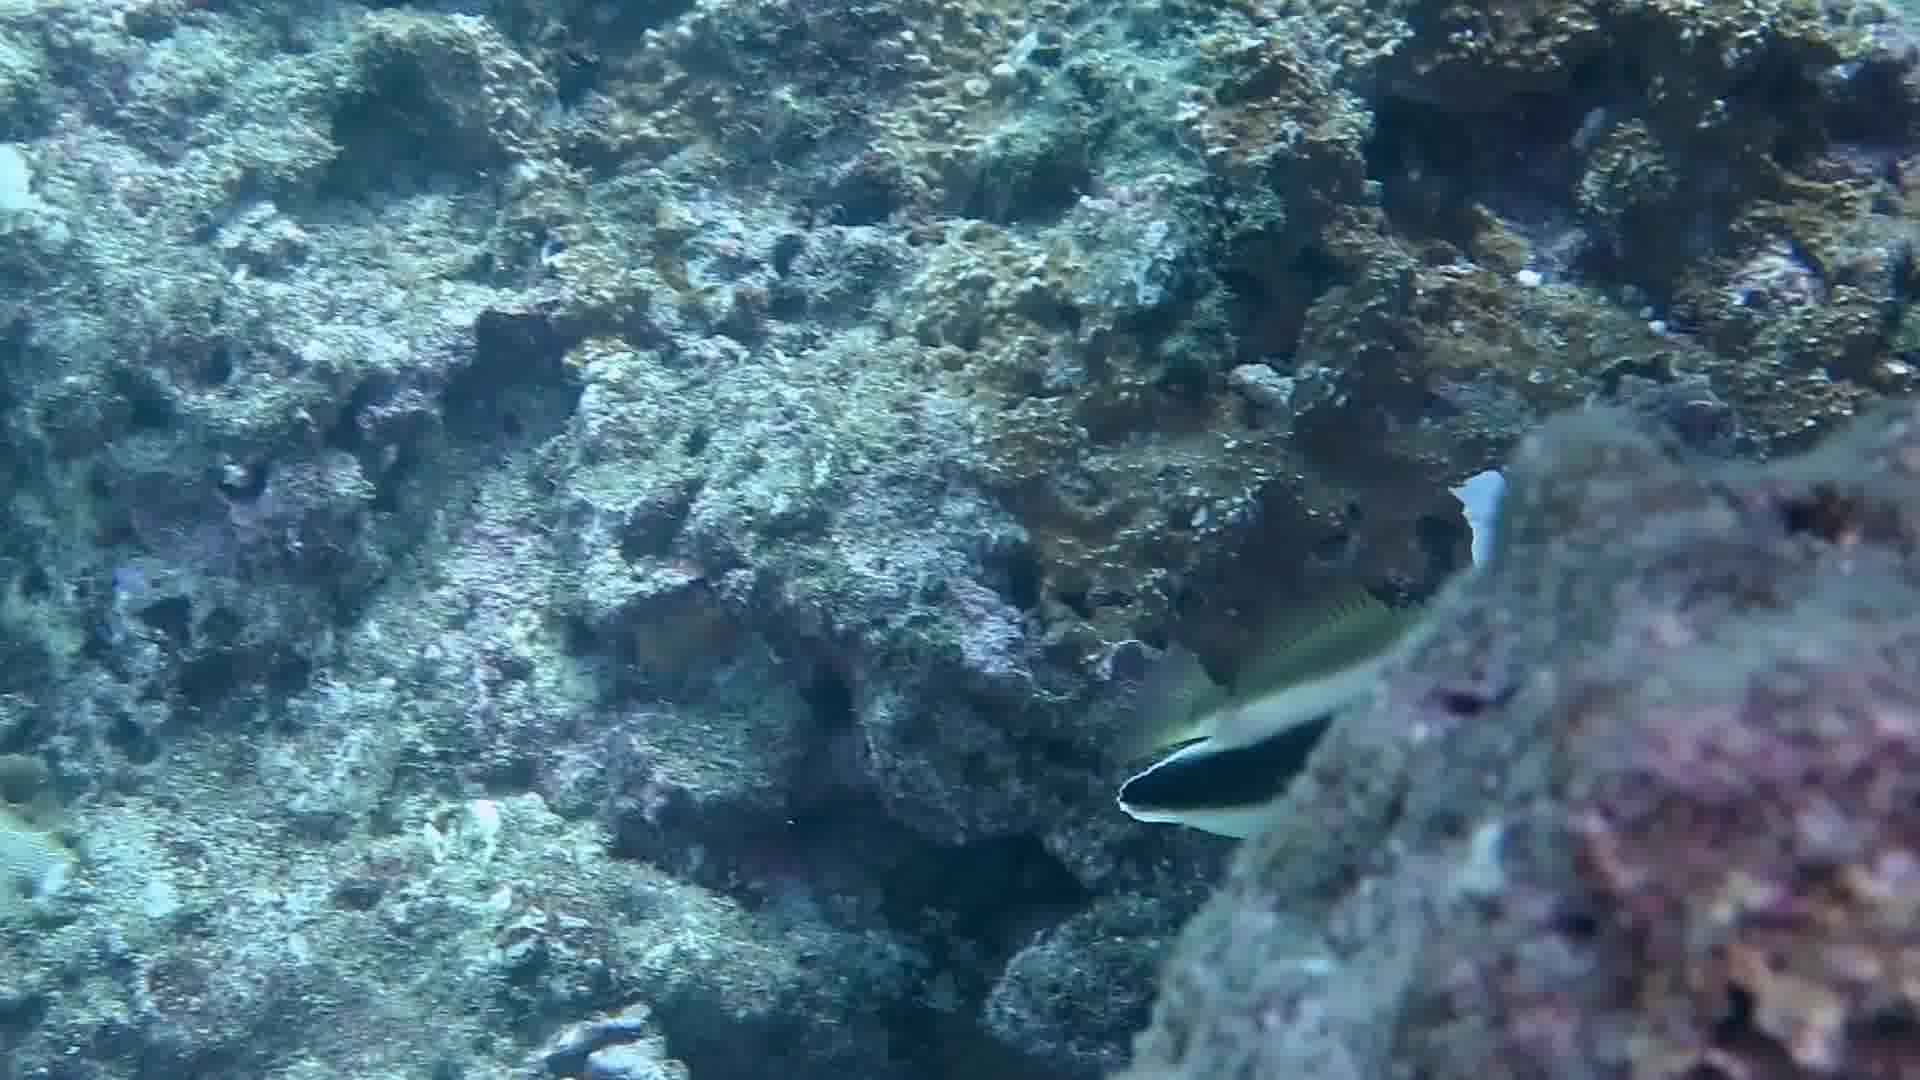Heniochus chrysostomus: (1084, 419, 1513, 848)
